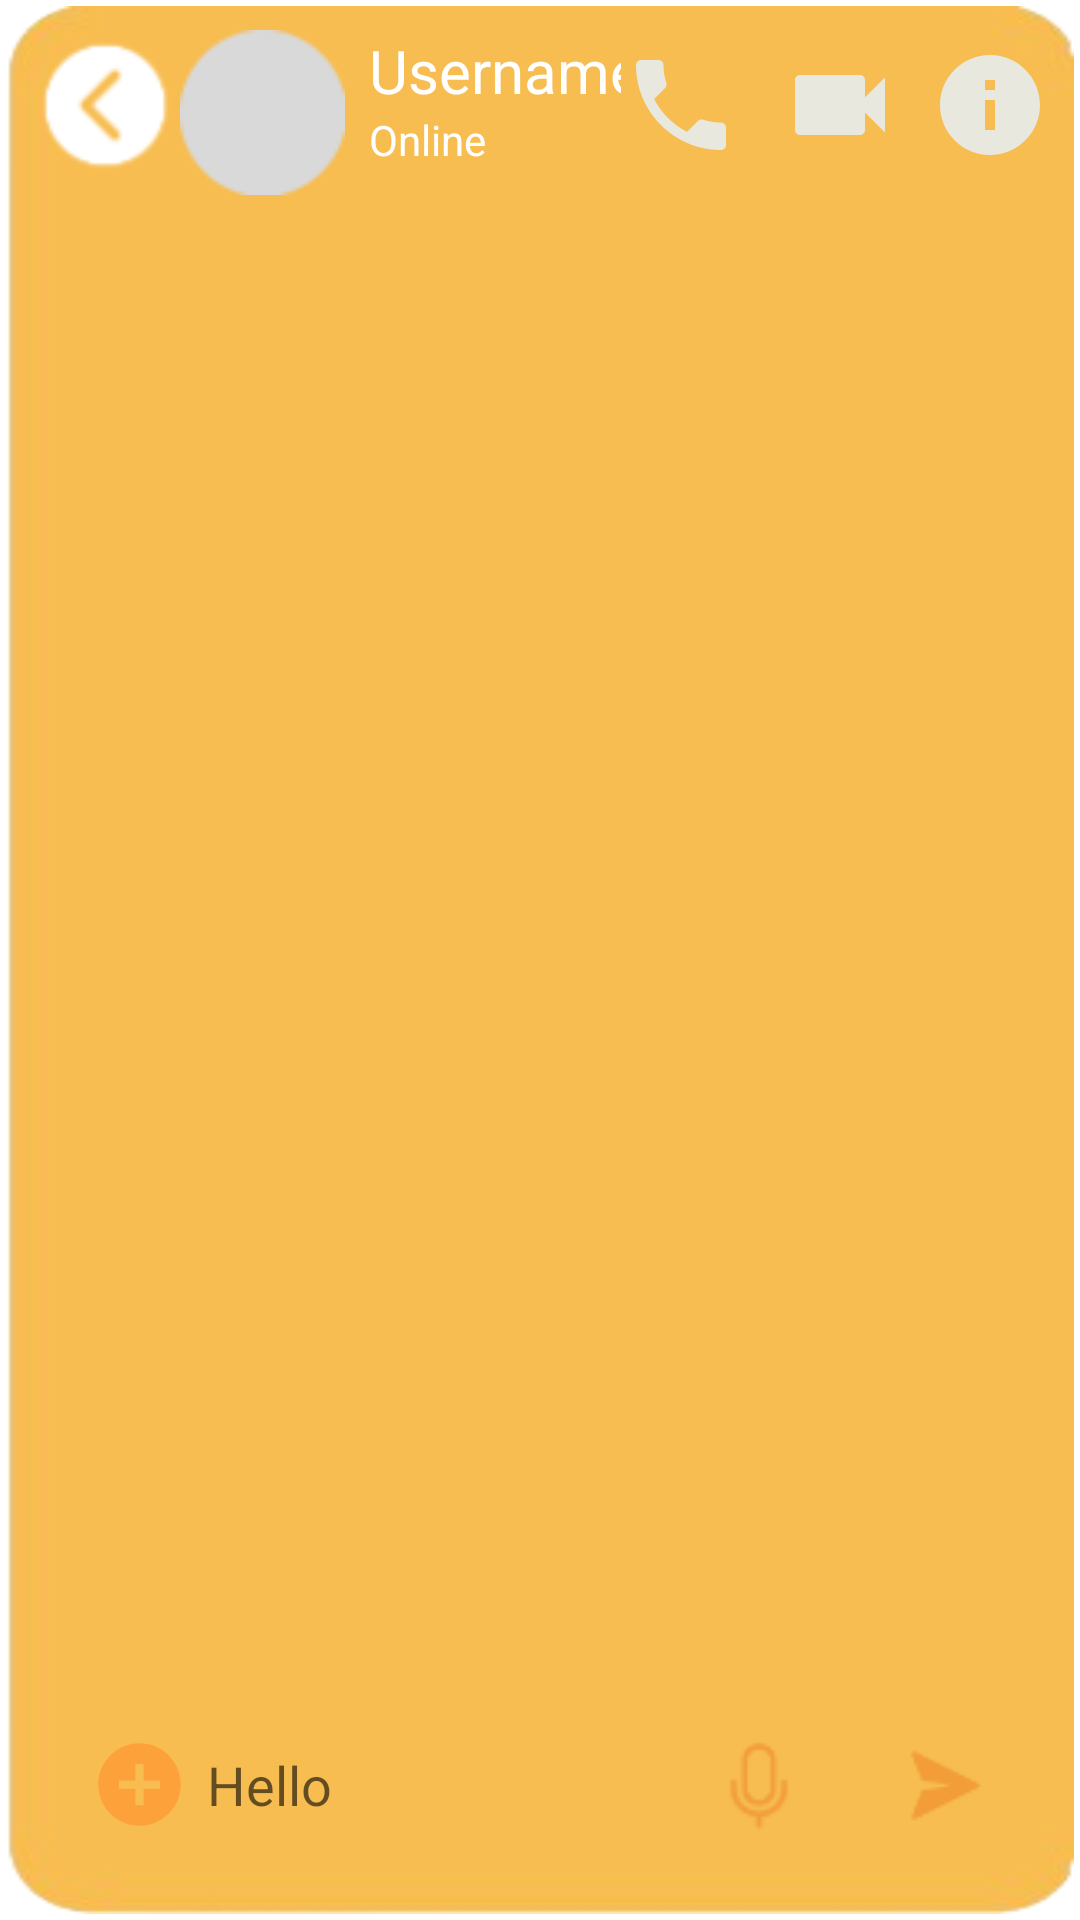

Where icons sit on this 1080 x 1920 app screen, as (x1, y1, x2, y2):
add circle: (99, 1744, 180, 1825)
back arrow: (43, 44, 167, 167)
info: (940, 55, 1040, 155)
local phone: (636, 60, 726, 150)
mic: (732, 1744, 786, 1826)
send: (913, 1753, 979, 1818)
videocam: (795, 75, 885, 135)
